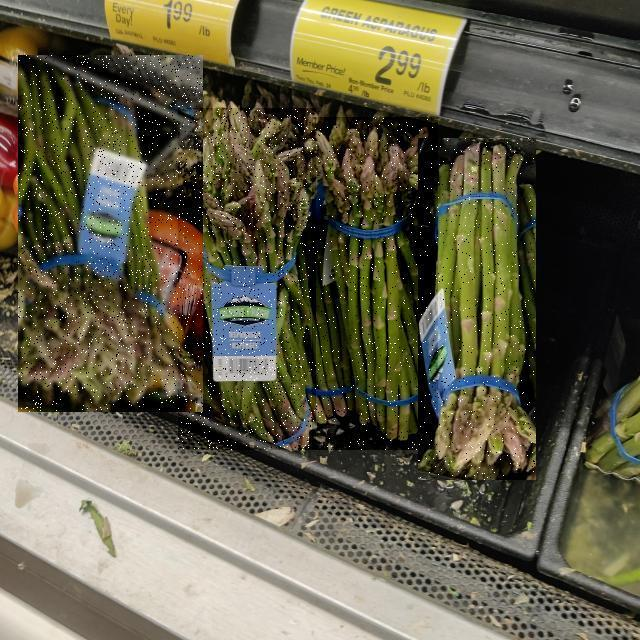Asparagus: (18, 55, 203, 412), (178, 109, 316, 451), (312, 117, 438, 450), (419, 139, 537, 481)
